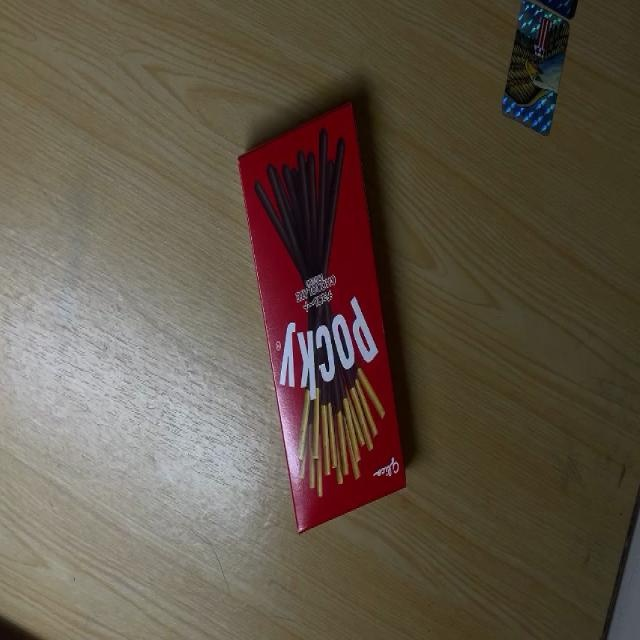Pocky: (234, 99, 408, 534)
